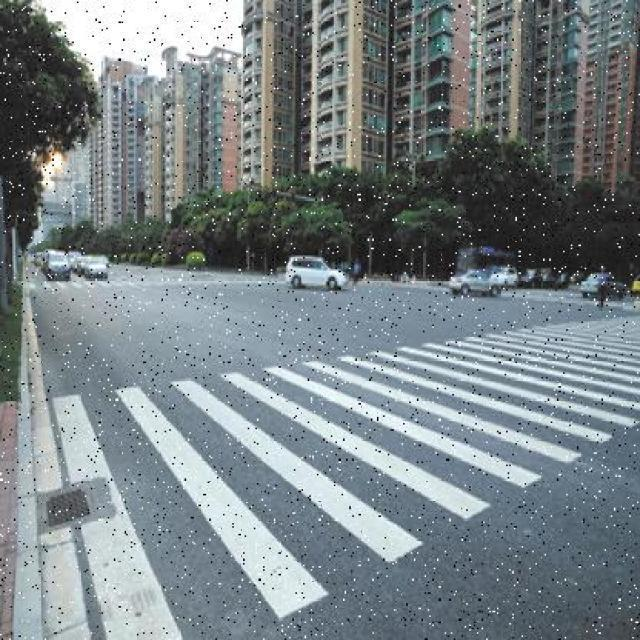crosswalk: (51, 313, 640, 640)
